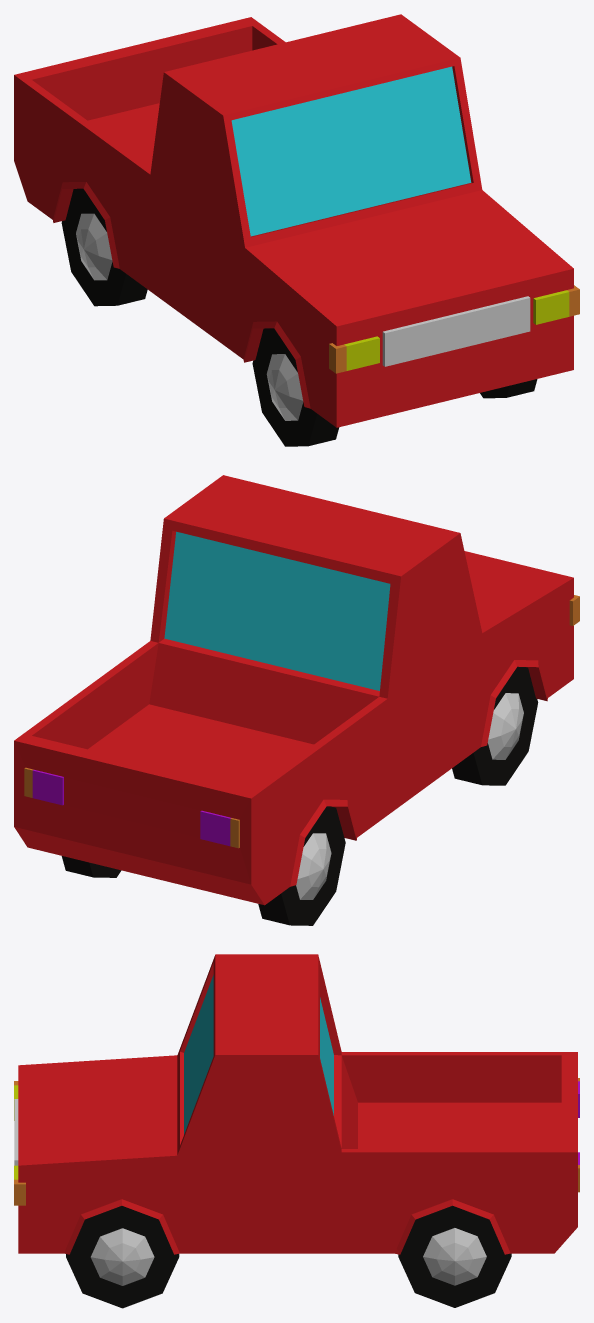
File: kastikas.fbx
The picture shows the model from 3 angles, top to bottom: view 1: azimuth 30°, elevation 25°; view 2: azimuth 150°, elevation 25°; view 3: azimuth 270°, elevation 25°; orthographic projection. The views are drawn at different scales.
Parts seen in each view (by area): view 1: Plane; view 2: Plane; view 3: Plane.
Part boxes in pixels (x1=…): Plane: x1=14, y1=14, x2=579, y2=446; Plane: x1=14, y1=475, x2=579, y2=925; Plane: x1=14, y1=954, x2=579, y2=1308.
Bounding box in the file's own units: 247 × 279 × 562.
